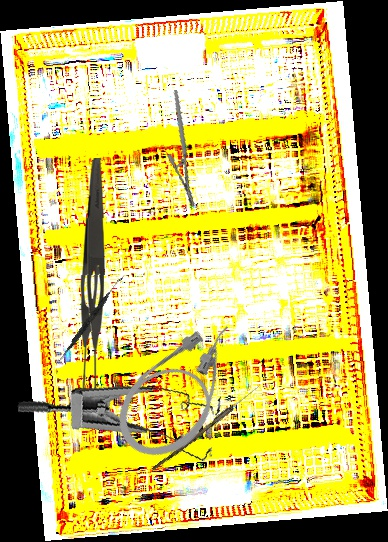Cannula: (100, 307, 266, 475)
Dressing Forceps: (76, 157, 107, 393)
Needle Holder: (152, 89, 217, 208)
Spatula Surgical: (57, 274, 124, 364)
Speculum: (15, 358, 234, 497)
Surgical Spoon: (152, 383, 261, 473)
